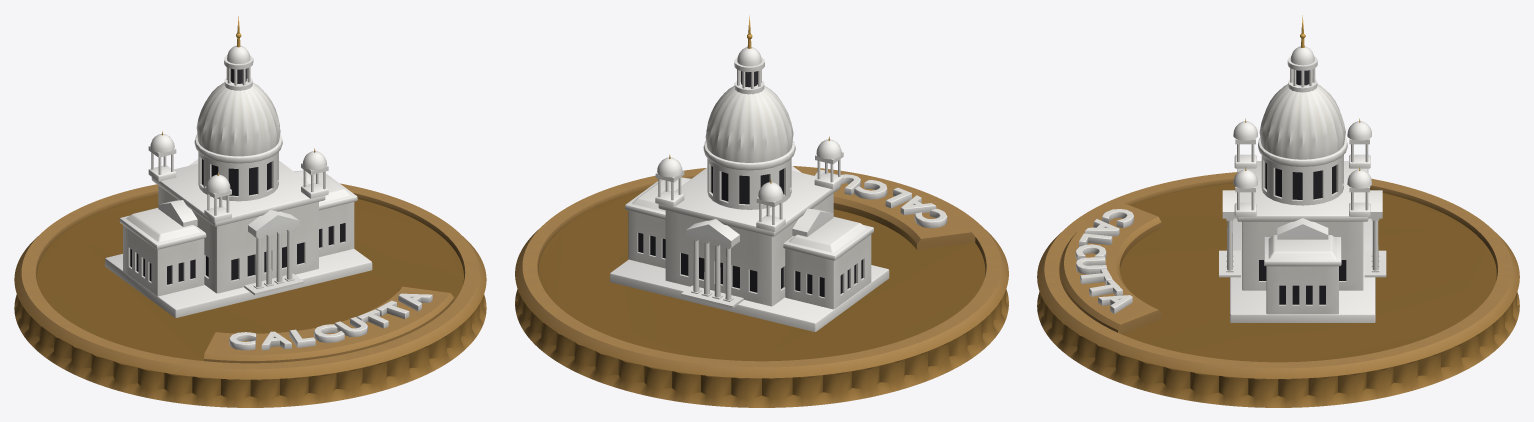
File: city_bundle_calcutta.glb
3 views of the same model, side by side, from view 1: azimuth 30°, elevation 25°; view 2: azimuth 150°, elevation 25°; view 3: azimuth 270°, elevation 25° (orthographic). The views are drawn at different scales.
Visible parts, largest first — view 1: Plinth_Body, Victoria_Marble, Victoria_Domes, Plinth_Nameplate, Victoria_Colonnades, Plinth_Text_CALCUTTA, Victoria_Lantern; view 2: Plinth_Body, Victoria_Marble, Victoria_Domes, Victoria_Colonnades, Plinth_Nameplate, Plinth_Text_CALCUTTA, Victoria_Lantern; view 3: Plinth_Body, Victoria_Marble, Victoria_Domes, Plinth_Nameplate, Victoria_Colonnades, Plinth_Text_CALCUTTA, Victoria_Lantern.
Part boxes in pixels (<box>): Plinth_Body: <box>14,183,486,407</box>; Victoria_Marble: <box>105,134,372,317</box>; Victoria_Domes: <box>150,82,326,193</box>; Plinth_Nameplate: <box>204,286,454,363</box>; Victoria_Colonnades: <box>148,146,328,295</box>; Plinth_Text_CALCUTTA: <box>229,293,432,350</box>; Victoria_Lantern: <box>224,16,253,90</box>; Plinth_Body: <box>515,166,1008,407</box>; Victoria_Marble: <box>610,140,889,331</box>; Victoria_Domes: <box>657,85,841,201</box>; Victoria_Colonnades: <box>655,152,843,308</box>; Plinth_Nameplate: <box>796,168,975,250</box>; Plinth_Text_CALCUTTA: <box>814,169,947,228</box>; Victoria_Lantern: <box>734,15,764,94</box>; Plinth_Body: <box>1037,172,1519,407</box>; Victoria_Marble: <box>1230,137,1375,322</box>; Victoria_Domes: <box>1233,84,1371,188</box>; Plinth_Nameplate: <box>1060,202,1161,334</box>; Victoria_Colonnades: <box>1219,138,1386,277</box>; Plinth_Text_CALCUTTA: <box>1075,209,1133,313</box>; Victoria_Lantern: <box>1287,15,1317,92</box>.
Size of the model in its own units: 1.99 by 1.34 by 1.99.
